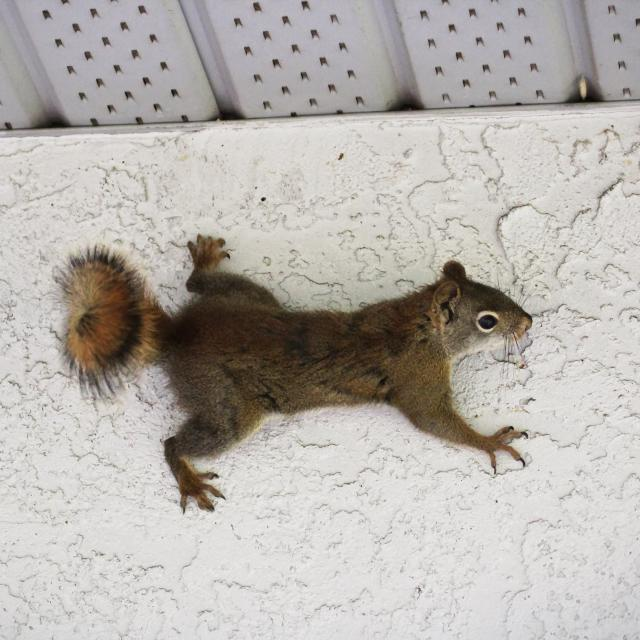Squirrel: (59, 231, 541, 505)
